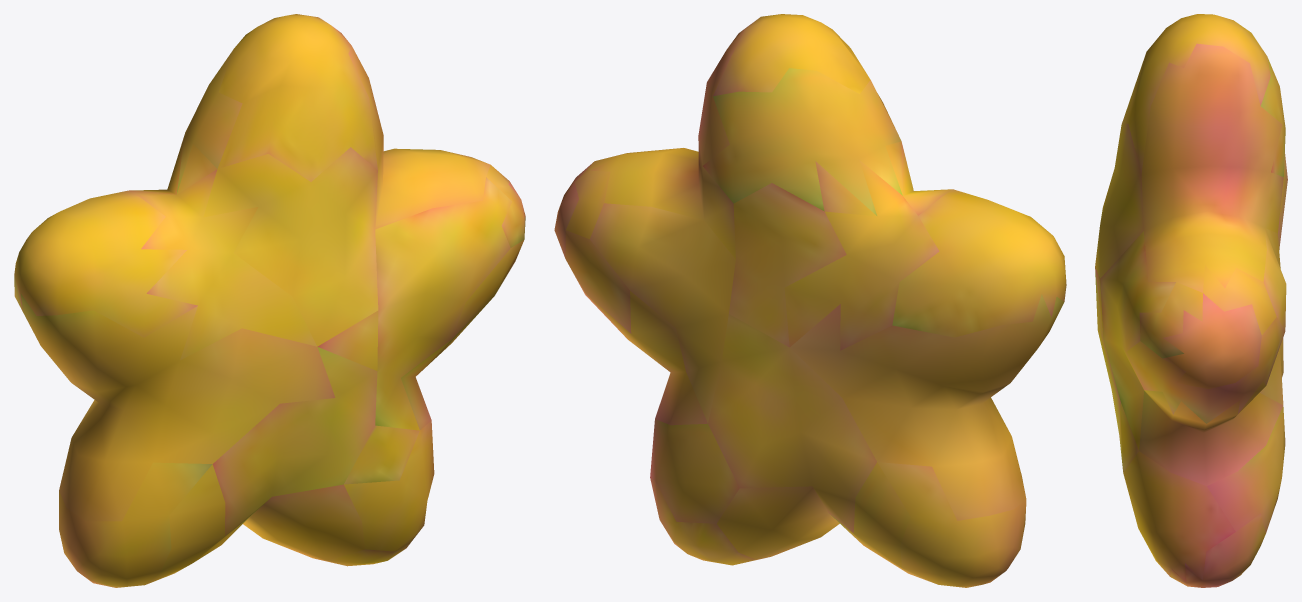
Rendered from hat_star.glb.
The picture shows the model from 3 angles, left to right: view 1: azimuth 30°, elevation 25°; view 2: azimuth 150°, elevation 25°; view 3: azimuth 270°, elevation 25°; orthographic projection. The views are drawn at different scales.
Bounding box in the file's own units: 0.3455 × 0.3718 × 0.1224.
Materials: 1 (1 with a texture image).
